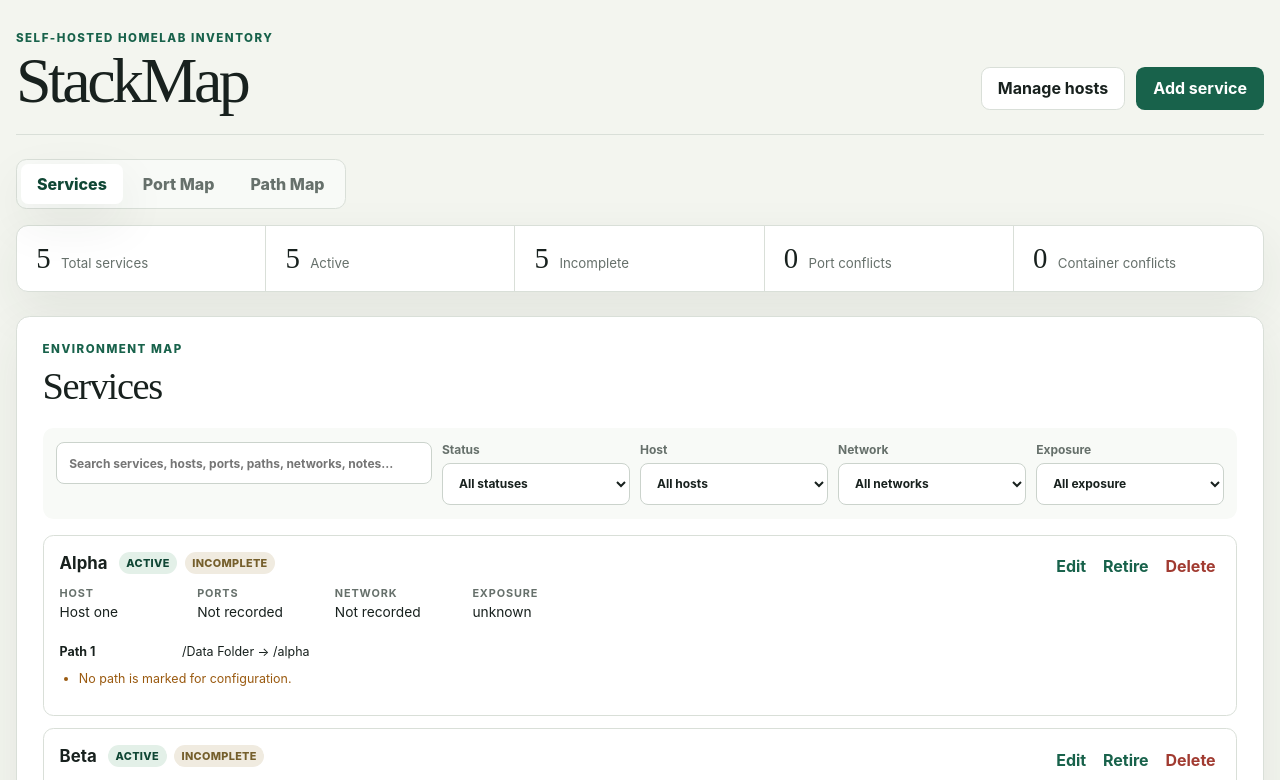
it: StackMap service workflows › preserves stored host paths and gives every path group one valid unique accessible label
This screenshot has width=1280, height=780.
Click the button "Path Map" at (287, 184), box [234,164,340,204]
(page scrolled)
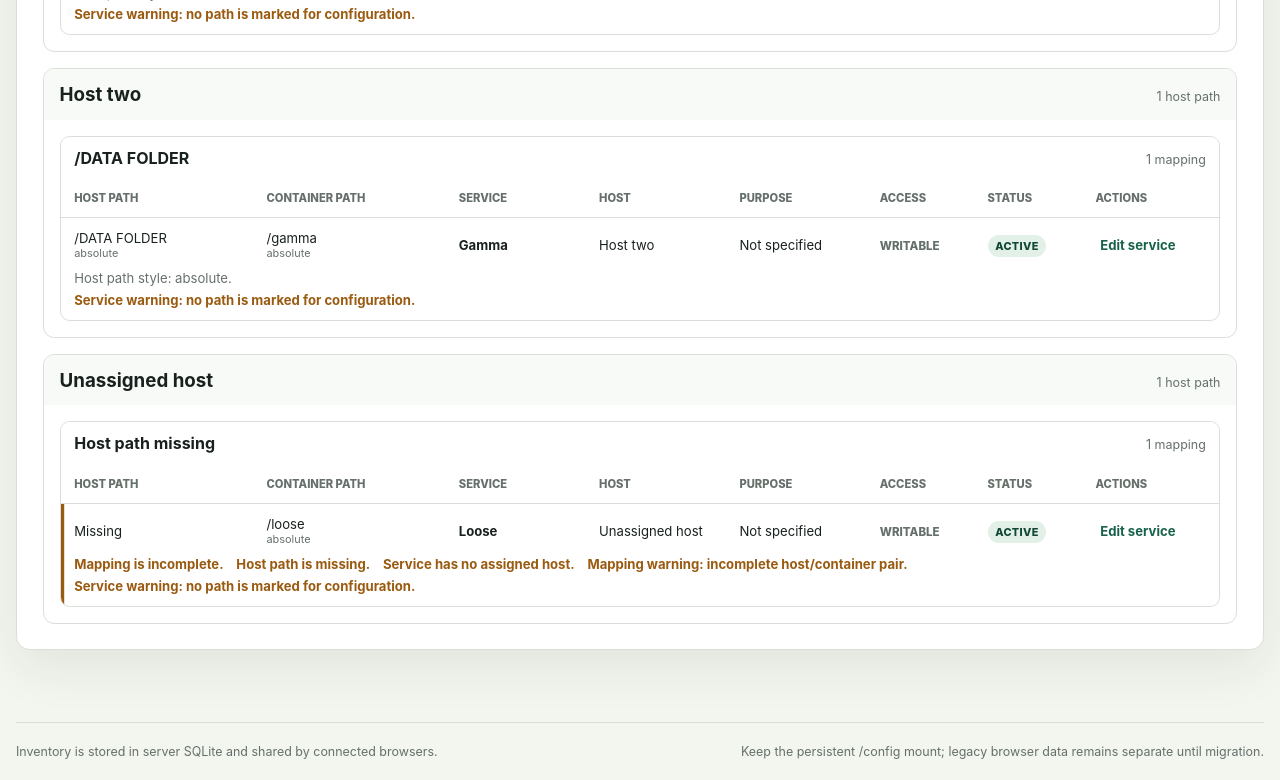
Check: the row named "Loose, host path missing" shows "Missing", box [74,522,122,538]
Check: the element "Host path missing" is shown, box [60,421,1220,607]
